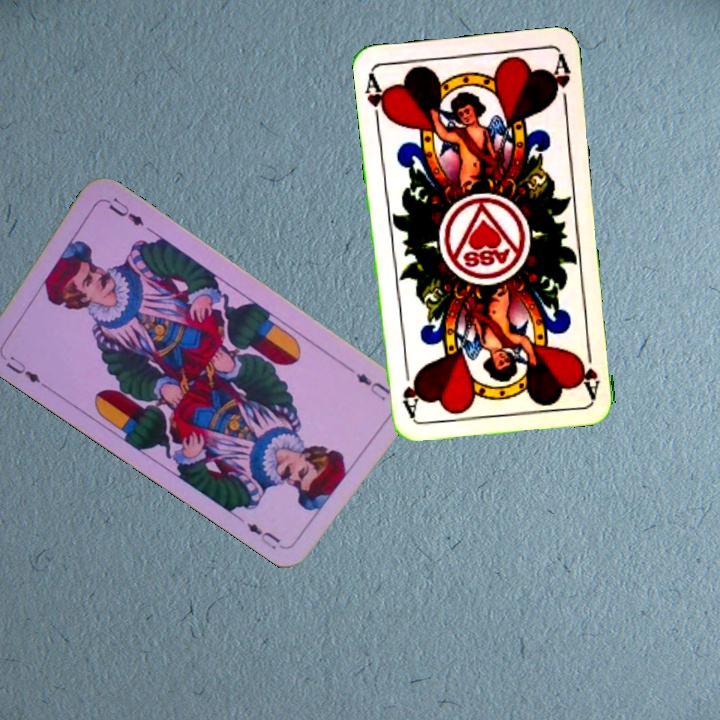EU: (2, 351, 49, 390), (351, 369, 394, 404)
HA: (362, 70, 392, 129), (575, 340, 603, 399)
